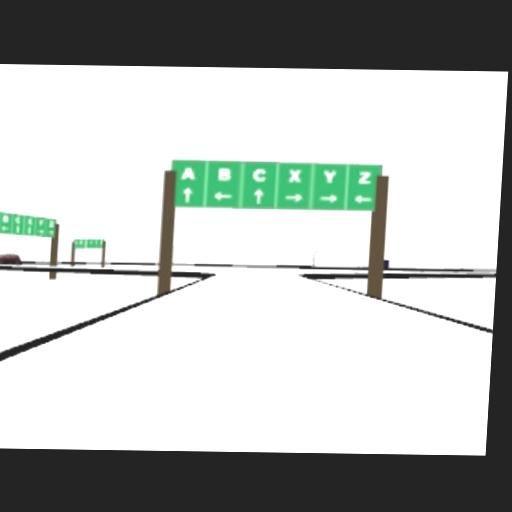A: (180, 167, 196, 179)
B: (218, 168, 232, 181), (1, 213, 9, 221)
C: (252, 168, 266, 182)
Left: (214, 191, 233, 200), (353, 194, 372, 203)
Right: (284, 193, 303, 202), (317, 194, 338, 202)
Straight: (253, 188, 264, 204), (182, 186, 193, 202)
X: (288, 169, 300, 182)
Y: (323, 169, 337, 183)
Z: (357, 171, 371, 184), (24, 216, 33, 236), (12, 215, 21, 232), (47, 219, 55, 229), (37, 218, 45, 226), (0, 212, 2, 230)
